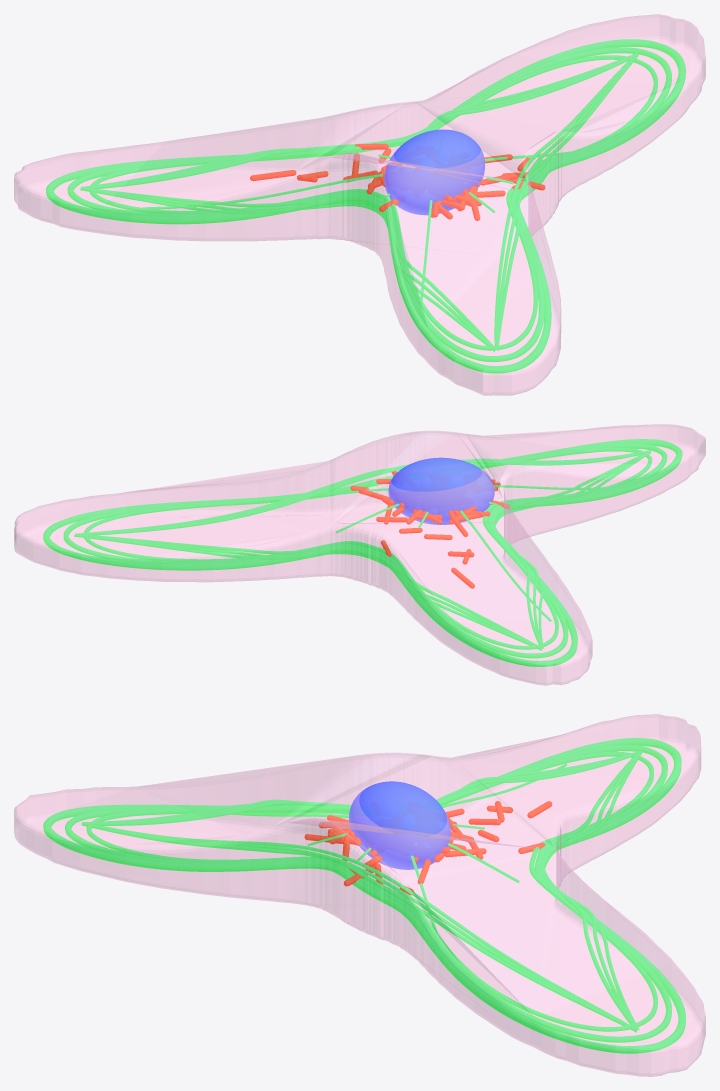
Rendered from dpsc-tripolar-cell-age4.glb.
3 views of the same model, one above another, from view 1: azimuth 30°, elevation 25°; view 2: azimuth 150°, elevation 25°; view 3: azimuth 270°, elevation 25° (orthographic). The views are drawn at different scales.
Visible parts, largest first — view 1: lamella_membrane, actin_bundle_1, actin_bundle_2, nucleus, actin_bundle_3, actin_bundle_4, actin_bundle_10, actin_bundle_12, actin_bundle_11, actin_bundle_9, actin_bundle_7, actin_bundle_8 (+3 smaller); view 2: lamella_membrane, actin_bundle_1, nucleus, actin_bundle_3, actin_bundle_2, actin_bundle_7, actin_bundle_4, actin_bundle_6, actin_bundle_5, actin_bundle_9, actin_bundle_8, actin_bundle_10 (+2 smaller); view 3: lamella_membrane, actin_bundle_1, nucleus, actin_bundle_2, actin_bundle_3, actin_bundle_9, actin_bundle_7, actin_bundle_10, actin_bundle_8, actin_bundle_4, actin_bundle_11, actin_bundle_5 (+2 smaller).
Boxes of the visible parts, x1,y1,x2,y2 form: lamella_membrane: (14,14,705,395); actin_bundle_1: (46,39,685,373); actin_bundle_2: (67,47,671,361); nucleus: (384,129,484,215); actin_bundle_3: (89,55,657,350); actin_bundle_4: (81,53,637,188); actin_bundle_10: (80,187,495,352); actin_bundle_12: (82,188,494,351); actin_bundle_11: (80,187,495,351); actin_bundle_9: (495,53,638,351); actin_bundle_7: (494,55,634,348); actin_bundle_8: (496,59,631,350); lamella_membrane: (14,424,705,685); actin_bundle_1: (43,439,682,666); nucleus: (388,457,494,524); actin_bundle_3: (84,447,652,649); actin_bundle_2: (63,443,667,658); actin_bundle_7: (78,451,647,535); actin_bundle_4: (74,533,542,650); actin_bundle_6: (76,534,541,650); actin_bundle_5: (74,534,538,646); actin_bundle_9: (77,450,649,533); actin_bundle_8: (86,451,644,533); actin_bundle_10: (494,450,651,648); lamella_membrane: (14,714,705,1076); actin_bundle_1: (43,738,685,1053); nucleus: (349,781,450,869); actin_bundle_2: (65,745,671,1042); actin_bundle_3: (86,751,657,1031); actin_bundle_9: (81,822,637,1032); actin_bundle_7: (89,823,633,1026); actin_bundle_10: (83,751,638,825); actin_bundle_8: (95,824,637,1030); actin_bundle_4: (542,750,641,1029); actin_bundle_11: (94,752,634,822); actin_bundle_5: (548,753,638,1026).
Bounding box in the file's own units: 0.1343 × 0.0187 × 0.1167.
